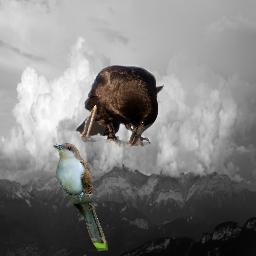Crow: (74, 64, 167, 147)
Cuckoo: (53, 143, 108, 251)
